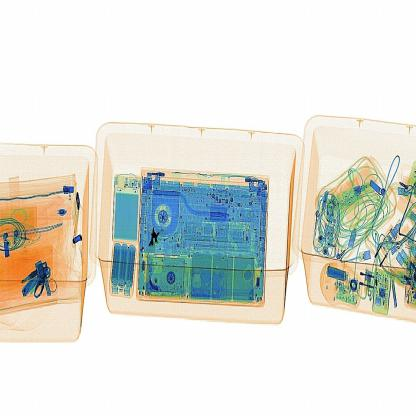gun: (138, 208, 171, 256)
